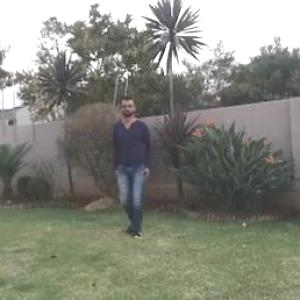follow: (115, 99, 152, 229)
